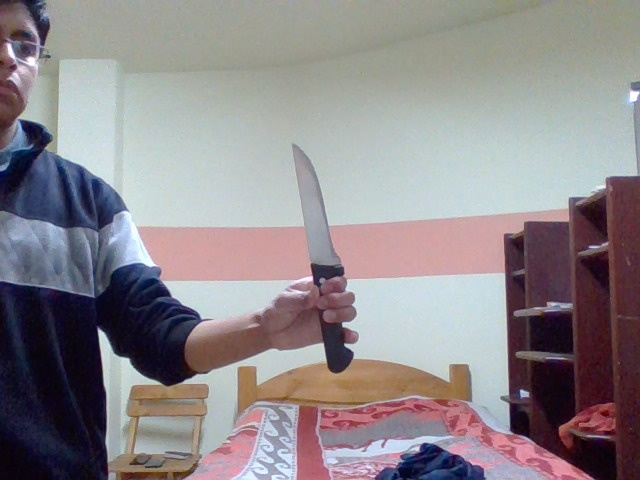cuchillo: (280, 138, 370, 380)
